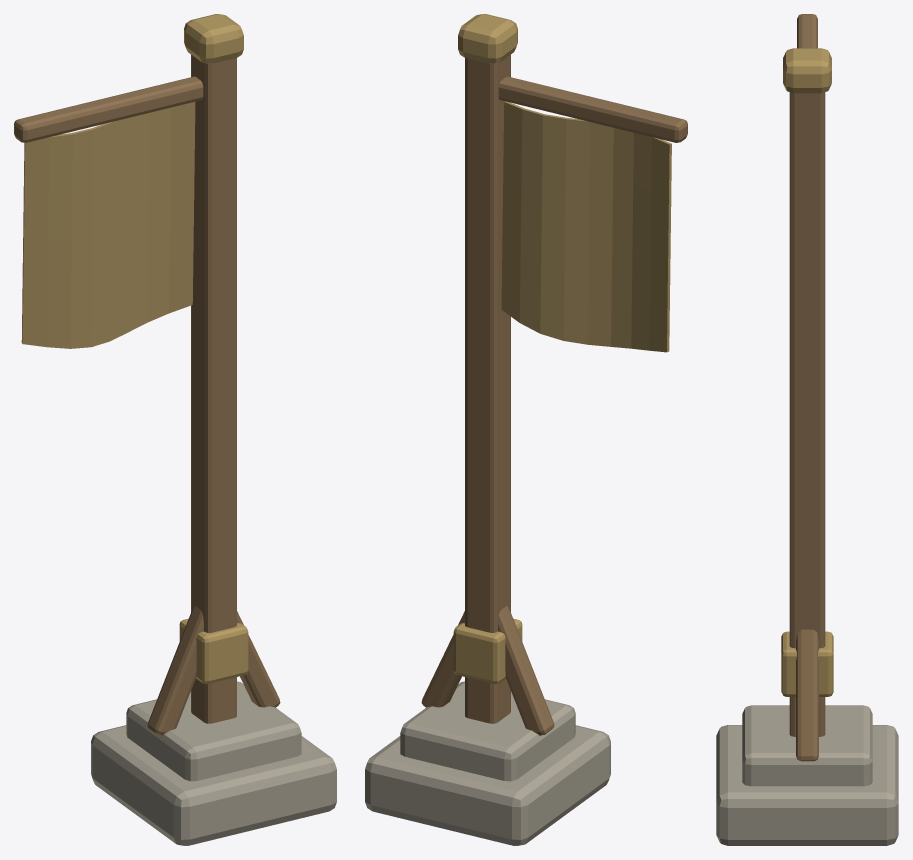
The model's file is c01_market_beacon.glb.
3 views of the same model, side by side, from view 1: azimuth 30°, elevation 25°; view 2: azimuth 150°, elevation 25°; view 3: azimuth 270°, elevation 25° (orthographic). The views are drawn at different scales.
Visible parts, largest first — view 1: Stand, Banner; view 2: Stand, Banner; view 3: Stand.
Part boxes in pixels (x1=…): Stand: x1=14, y1=14, x2=336, y2=845; Banner: x1=21, y1=102, x2=195, y2=348; Stand: x1=365, y1=14, x2=687, y2=845; Banner: x1=501, y1=101, x2=671, y2=352; Stand: x1=716, y1=14, x2=898, y2=845.
Bounding box in the file's own units: 0.48 × 1.28 × 0.28.
